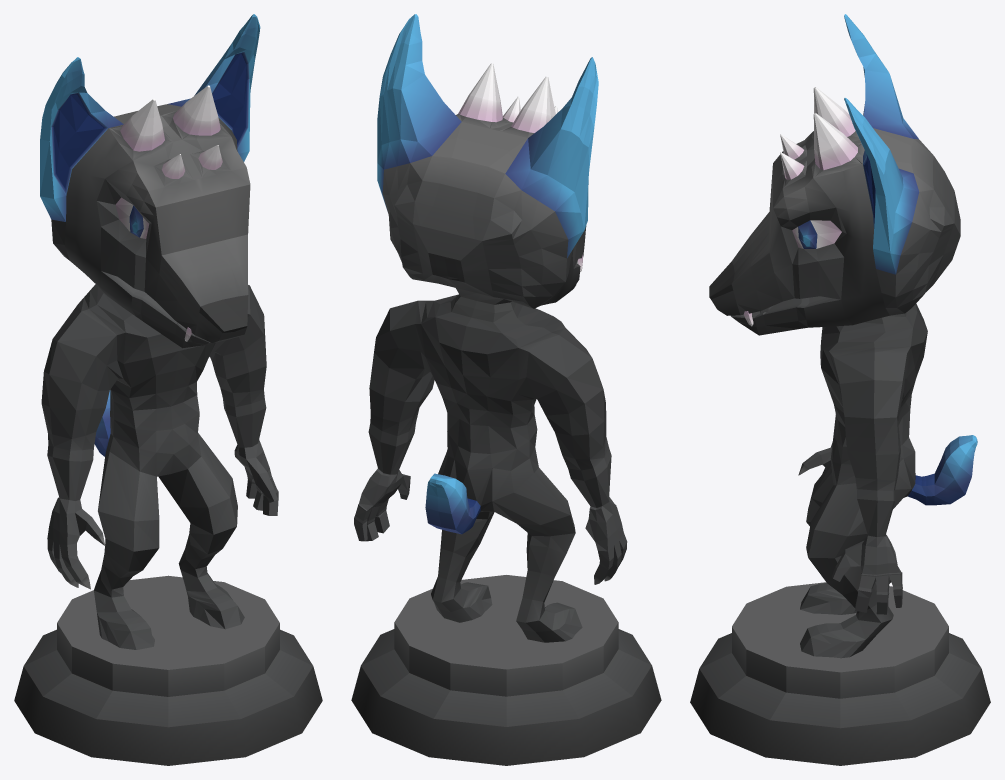
The model's file is Color_WolfStatue.FBX.
3 renders of one model, left to right at view 1: azimuth 30°, elevation 25°; view 2: azimuth 150°, elevation 25°; view 3: azimuth 270°, elevation 25°, orthographic. The views are drawn at different scales.
Visible parts, largest first — view 1: WolfStatue; view 2: WolfStatue; view 3: WolfStatue.
Part boxes in pixels (x1,y1,x2,y2): WolfStatue: (14, 14, 322, 765); WolfStatue: (351, 14, 661, 765); WolfStatue: (690, 14, 990, 765).
Bounding box in the file's own units: 48.33 × 115 × 48.33.
